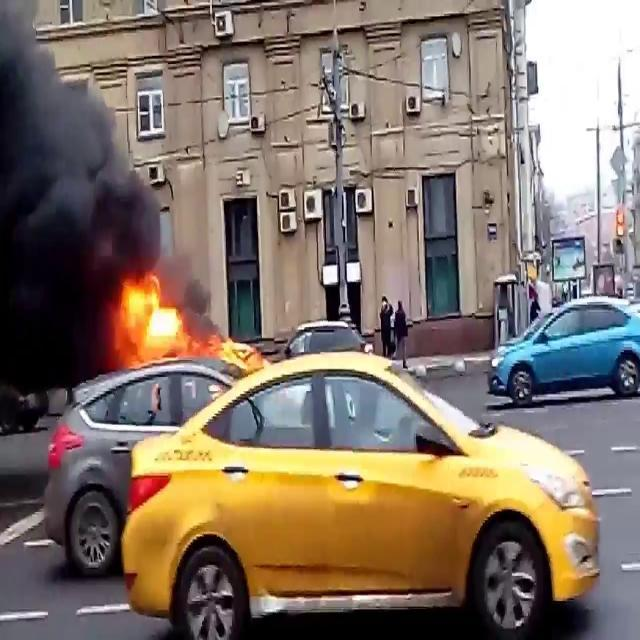Fire: (112, 270, 192, 358)
Smoke: (0, 0, 170, 350)
